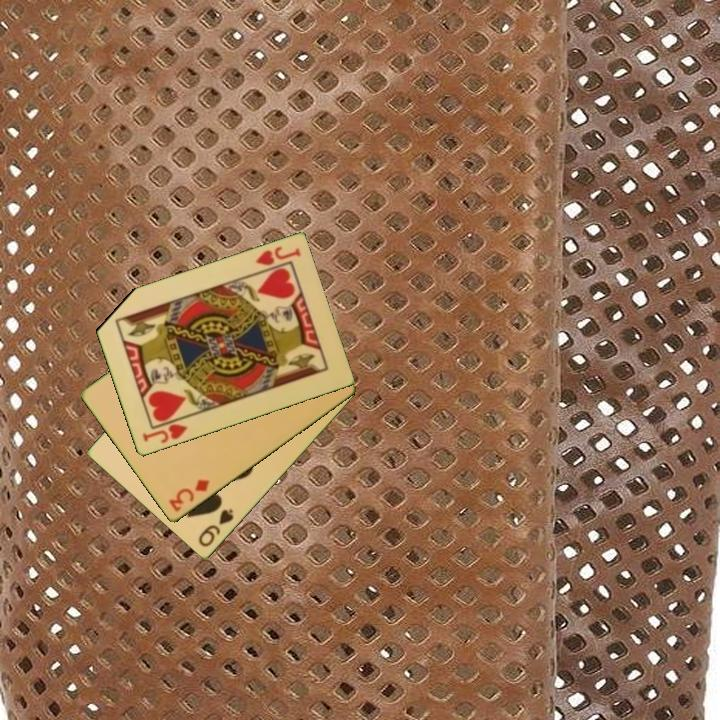3d: (165, 476, 213, 515)
9s: (195, 506, 236, 550)
Jh: (139, 413, 191, 447), (252, 243, 303, 269)
